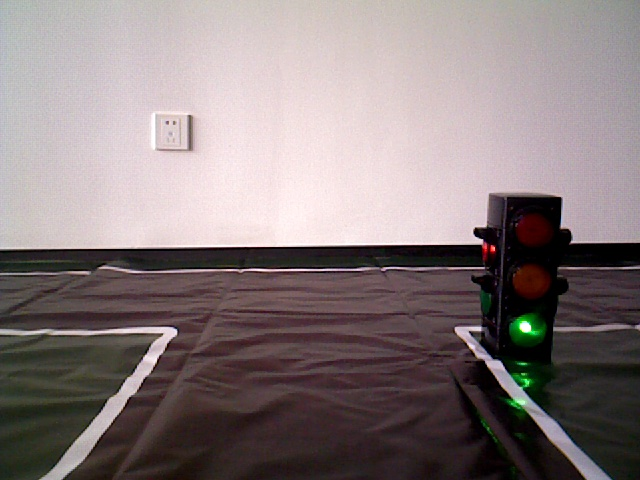green: (491, 196, 552, 348)
